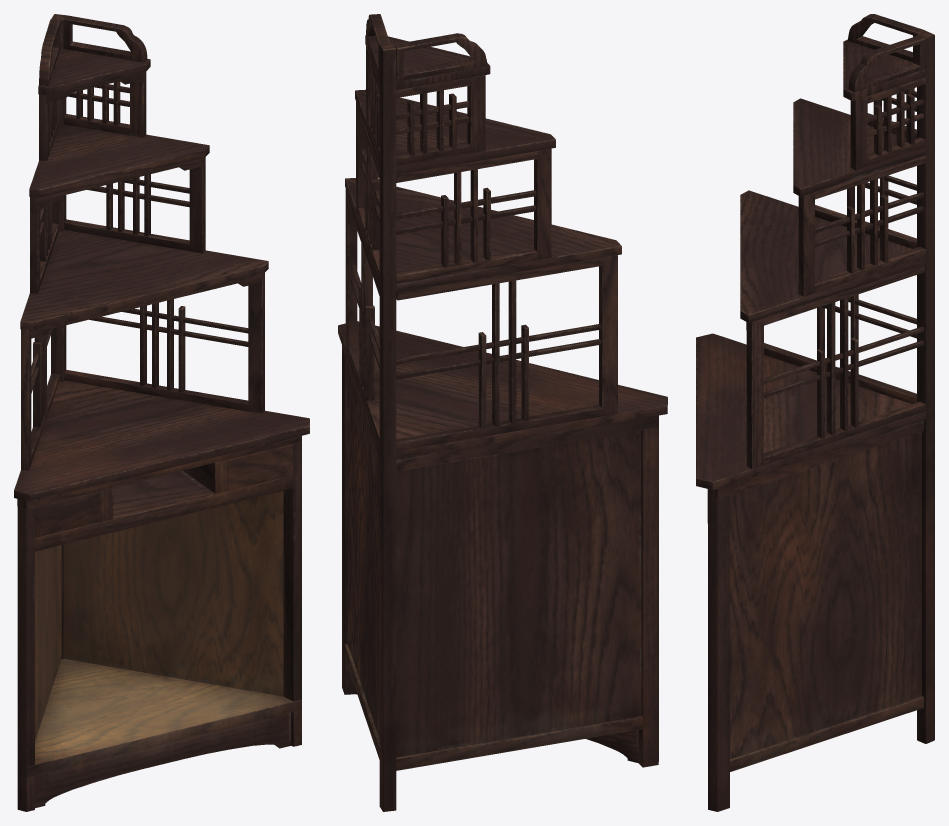
The model's file is SM_Cabinet243_body.fbx.
3 views of the same model, side by side, from view 1: azimuth 30°, elevation 25°; view 2: azimuth 150°, elevation 25°; view 3: azimuth 270°, elevation 25° (orthographic). The views are drawn at different scales.
Visible parts, largest first — view 1: SM_Cabinet243_body; view 2: SM_Cabinet243_body; view 3: SM_Cabinet243_body.
Boxes of the visible parts, x1,y1,x2,y2 form: SM_Cabinet243_body: [14, 14, 309, 811]; SM_Cabinet243_body: [338, 14, 667, 811]; SM_Cabinet243_body: [696, 14, 934, 811].
Size of the model in its own units: 80.95 by 179 by 54.86.
Materials: 1 (1 with a texture image).
